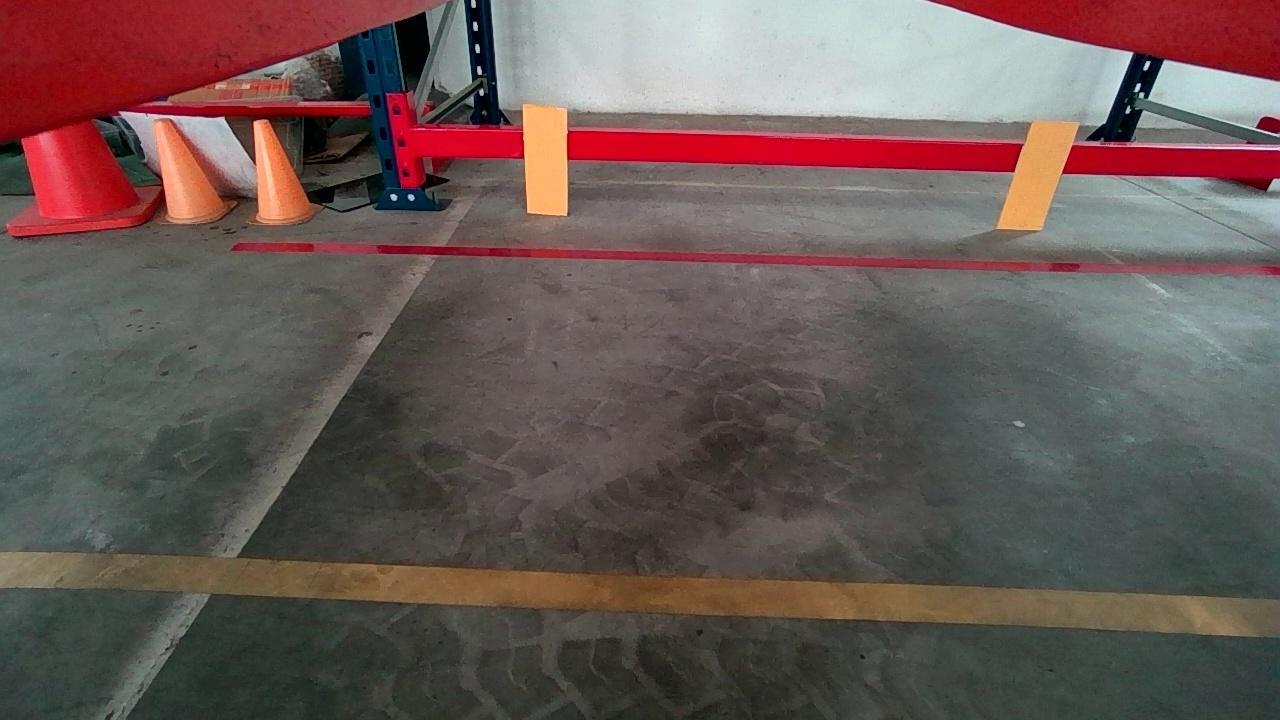h_rack: (412, 129, 1280, 176)
orange_strip: (999, 124, 1074, 231), (526, 107, 568, 217)
red_line: (228, 238, 1280, 272)
yellow_line: (0, 554, 1280, 640)
